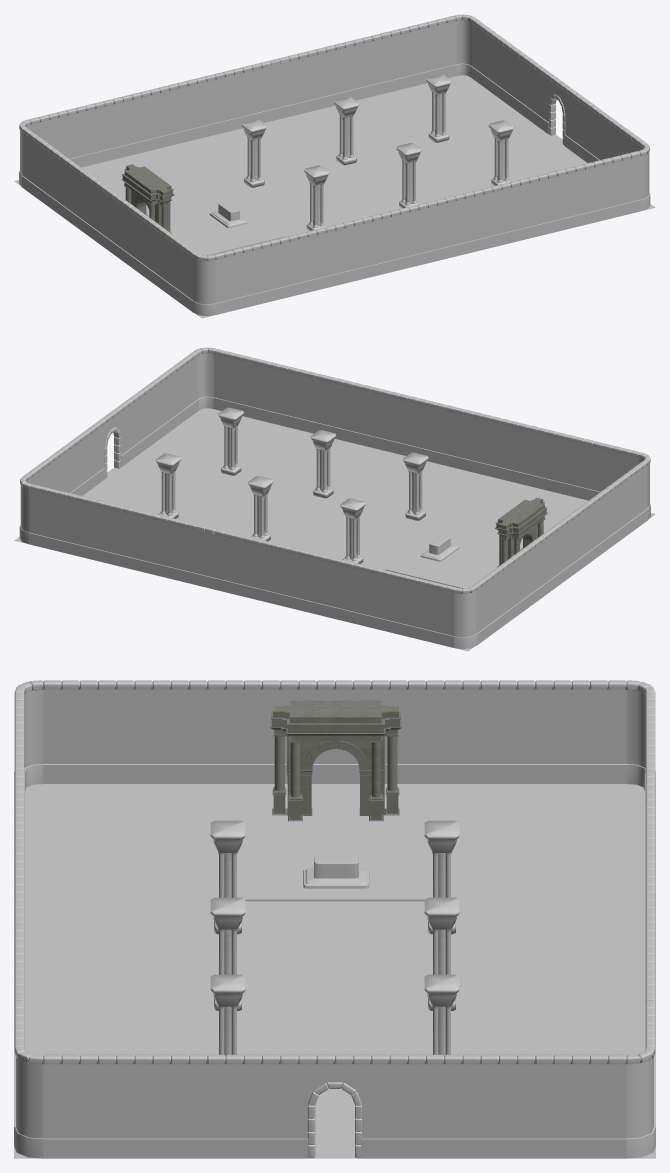
The model's file is HUB_V2.fbx.
The picture shows the model from 3 angles, top to bottom: view 1: azimuth 30°, elevation 25°; view 2: azimuth 150°, elevation 25°; view 3: azimuth 270°, elevation 25°; orthographic projection. The views are drawn at different scales.
Visible parts, largest first — view 1: polySurface29 (×71), pPlane1, pCube1, polySurface48 (×2), Portal_03:polySurface11, Wall_Door, Portal_03:pCube1, group1_polySurface3, ArcoPuerta; view 2: polySurface29 (×71), pPlane1, pCube1, polySurface48 (×2), group1_polySurface3, Portal_03:polySurface11, Wall_Door, Portal_03:pCube1, ArcoPuerta; view 3: pPlane1, polySurface29 (×30), polySurface37 (×26), pCube1, polySurface48 (×4), pCylinder6 (×6), group1_polySurface3, Wall_Door, Portal_03:polySurface11, Portal_03:pCube1, Portal_03:polySurface9, ArcoPuerta (+5 smaller).
Part boxes in pixels (bbox=[...]): polySurface29 (×71): bbox=[23, 21, 640, 302]; pPlane1: bbox=[14, 75, 655, 318]; pCube1: bbox=[146, 190, 284, 255]; polySurface48 (×2): bbox=[193, 20, 471, 304]; Portal_03:polySurface11: bbox=[124, 164, 171, 195]; Wall_Door: bbox=[545, 73, 571, 147]; Portal_03:pCube1: bbox=[209, 201, 248, 227]; group1_polySurface3: bbox=[121, 166, 173, 233]; ArcoPuerta: bbox=[549, 94, 565, 144]; polySurface29 (×71): bbox=[29, 354, 646, 635]; pPlane1: bbox=[14, 408, 655, 651]; pCube1: bbox=[385, 523, 522, 588]; polySurface48 (×2): bbox=[198, 353, 476, 637]; group1_polySurface3: bbox=[495, 498, 547, 567]; Portal_03:polySurface11: bbox=[498, 498, 544, 529]; Wall_Door: bbox=[98, 406, 124, 480]; Portal_03:pCube1: bbox=[420, 535, 459, 561]; ArcoPuerta: bbox=[104, 427, 120, 477]; pPlane1: bbox=[14, 784, 655, 1158]; polySurface29 (×30): bbox=[43, 689, 626, 1138]; polySurface37 (×26): bbox=[43, 764, 626, 1158]; pCube1: bbox=[227, 800, 442, 901]; polySurface48 (×4): bbox=[16, 690, 653, 1138]; pCylinder6 (×6): bbox=[210, 820, 459, 1006]; group1_polySurface3: bbox=[270, 701, 401, 821]; Wall_Door: bbox=[298, 1054, 371, 1158]; Portal_03:polySurface11: bbox=[273, 700, 398, 723]; Portal_03:pCube1: bbox=[303, 855, 369, 888]; Portal_03:polySurface9: bbox=[286, 763, 385, 815]; ArcoPuerta: bbox=[307, 1082, 362, 1158].
Size of the model in its own units: 4918 by 633 by 3519.
